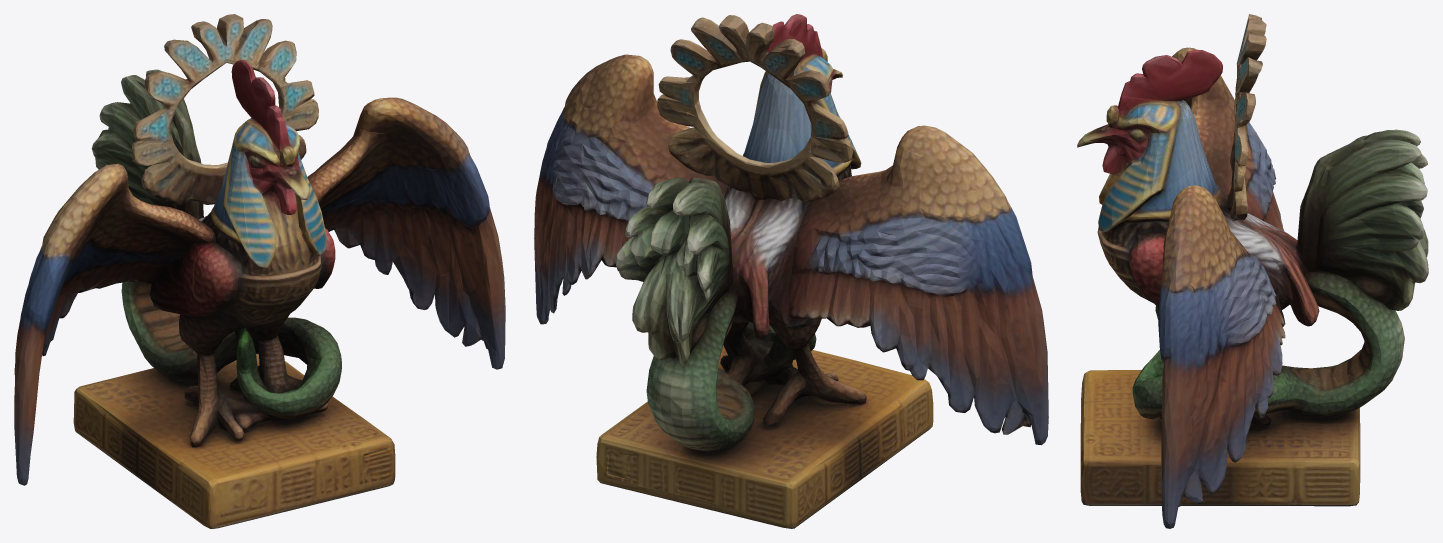
The model's file is stillgaze__sphinxOfTheDust.glb.
3 renders of one model, left to right at view 1: azimuth 30°, elevation 25°; view 2: azimuth 150°, elevation 25°; view 3: azimuth 270°, elevation 25°, orthographic. The views are drawn at different scales.
Parts seen in each view (by area): view 1: world; view 2: world; view 3: world.
Part boxes in pixels (box(x1,y1,x2,y2)): world: box(14, 14, 505, 528); world: box(534, 14, 1048, 528); world: box(1077, 14, 1428, 528).
Size of the model in its own units: 0.9995 by 0.8359 by 0.6152.
Materials: 1 (1 with a texture image).
